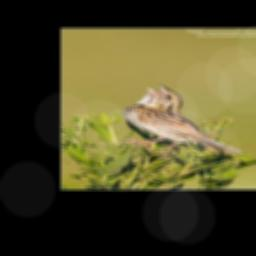Sparrow: (125, 83, 248, 157)
